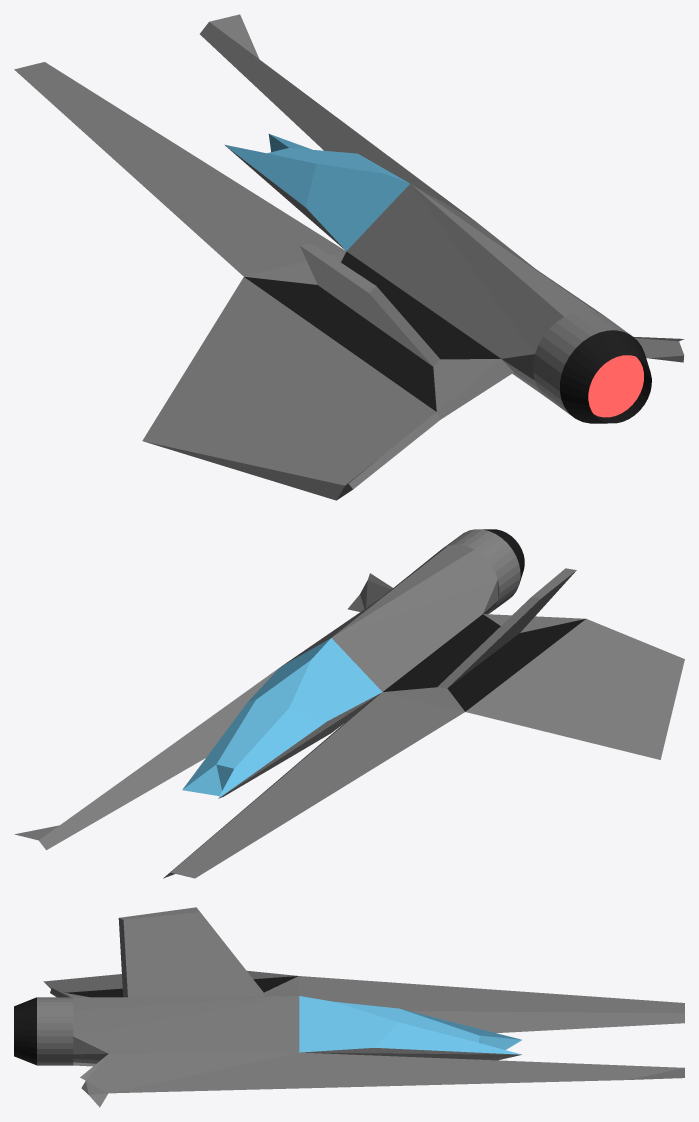
The model's file is BrokenShip-3.fbx.
3 renders of one model, top to bottom at view 1: azimuth 30°, elevation 25°; view 2: azimuth 150°, elevation 25°; view 3: azimuth 270°, elevation 25°, orthographic. The views are drawn at different scales.
Parts seen in each view (by area): view 1: Cylinder.004; view 2: Cylinder.004; view 3: Cylinder.004.
Boxes of the visible parts, <box> form: Cylinder.004: <box>14,14,684,500</box>; Cylinder.004: <box>14,529,684,878</box>; Cylinder.004: <box>14,907,684,1107</box>.
Size of the model in its own units: 5618 by 1954 by 10291.
